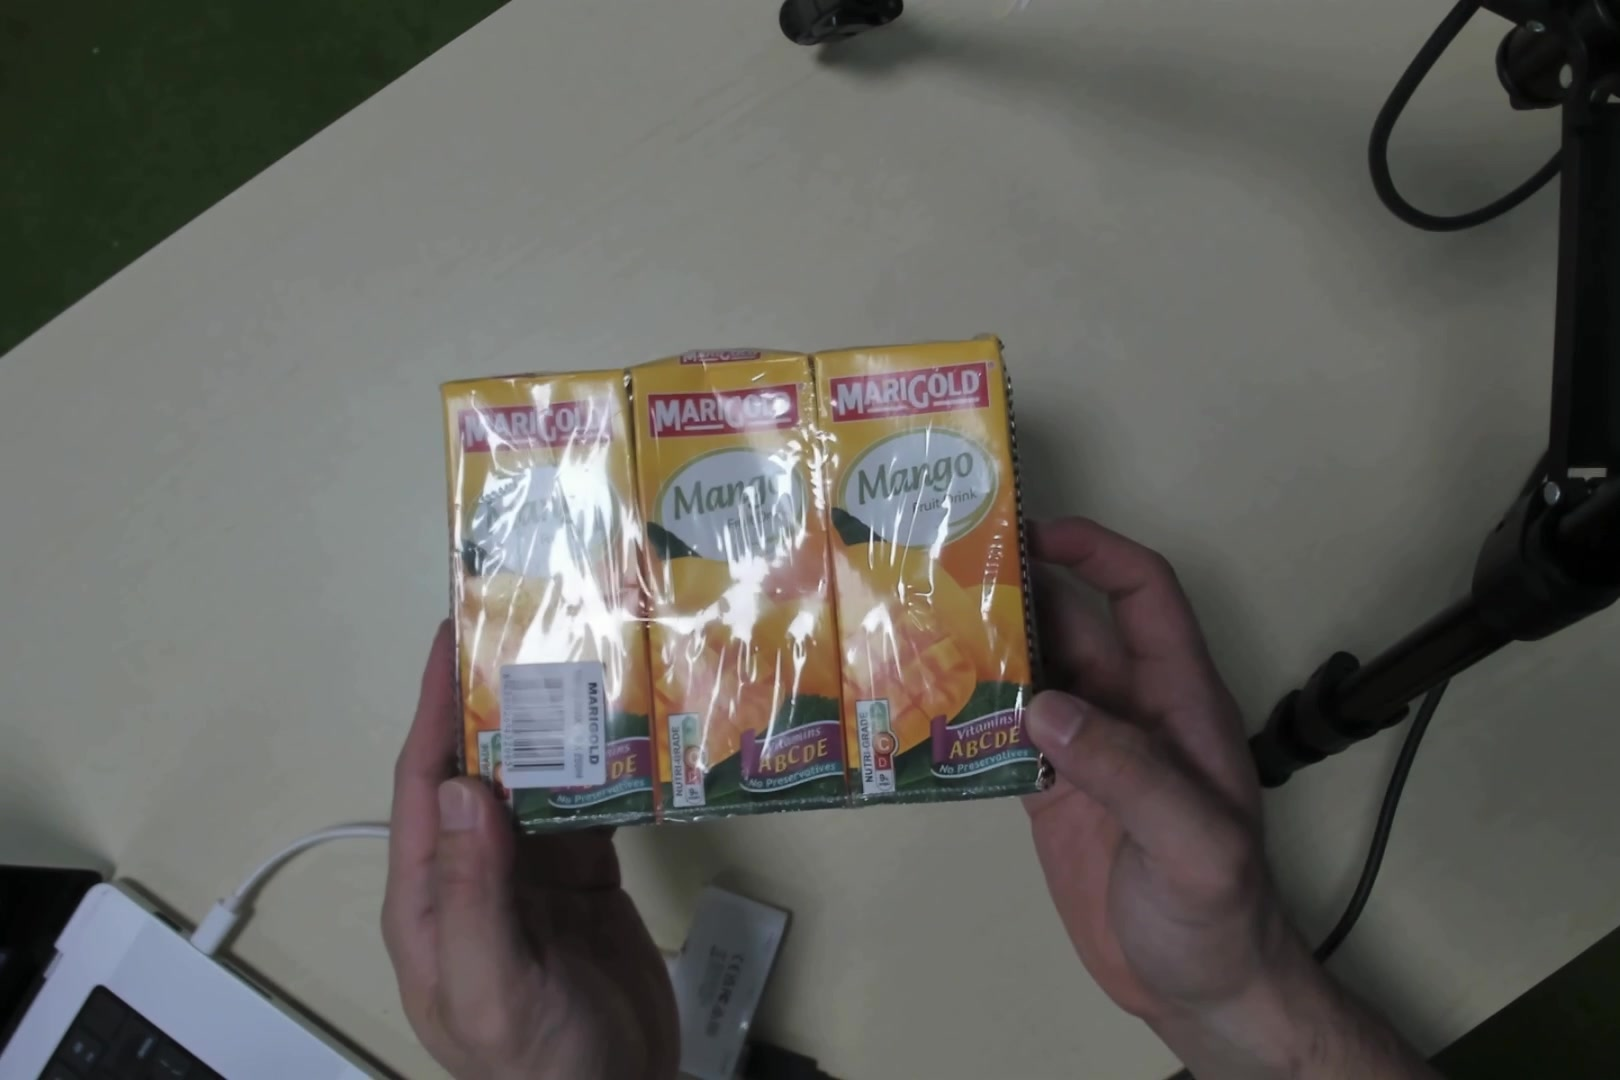FruitJuice_700-799g_Halal_NonHealthy: (417, 312, 1035, 837)
